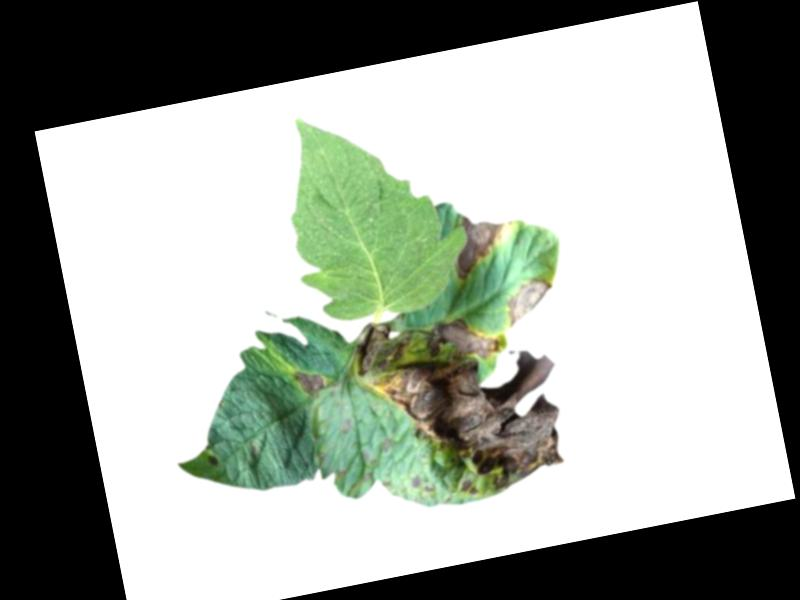Early_blight: (368, 335, 580, 512), (421, 307, 503, 368), (447, 210, 515, 281), (348, 316, 419, 377), (503, 276, 559, 325), (294, 366, 326, 397), (208, 452, 218, 467)
healthy: (269, 88, 480, 329)
